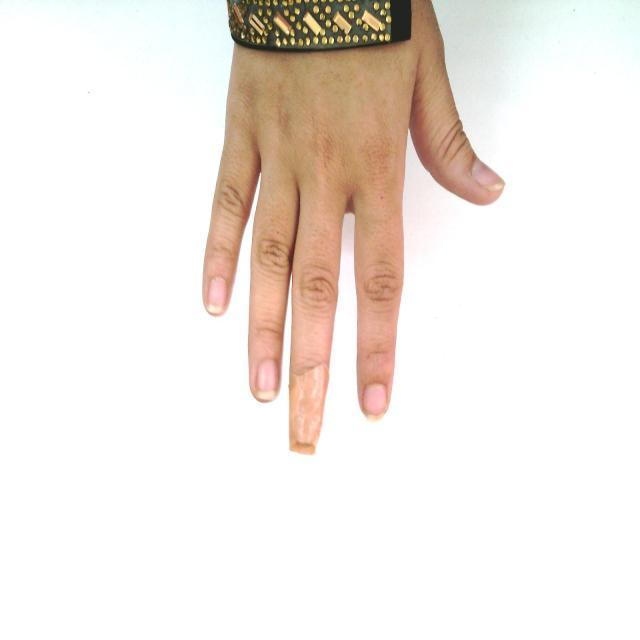Fingernail: (256, 359, 277, 400), (472, 162, 503, 189), (364, 384, 386, 419), (207, 278, 226, 314)
